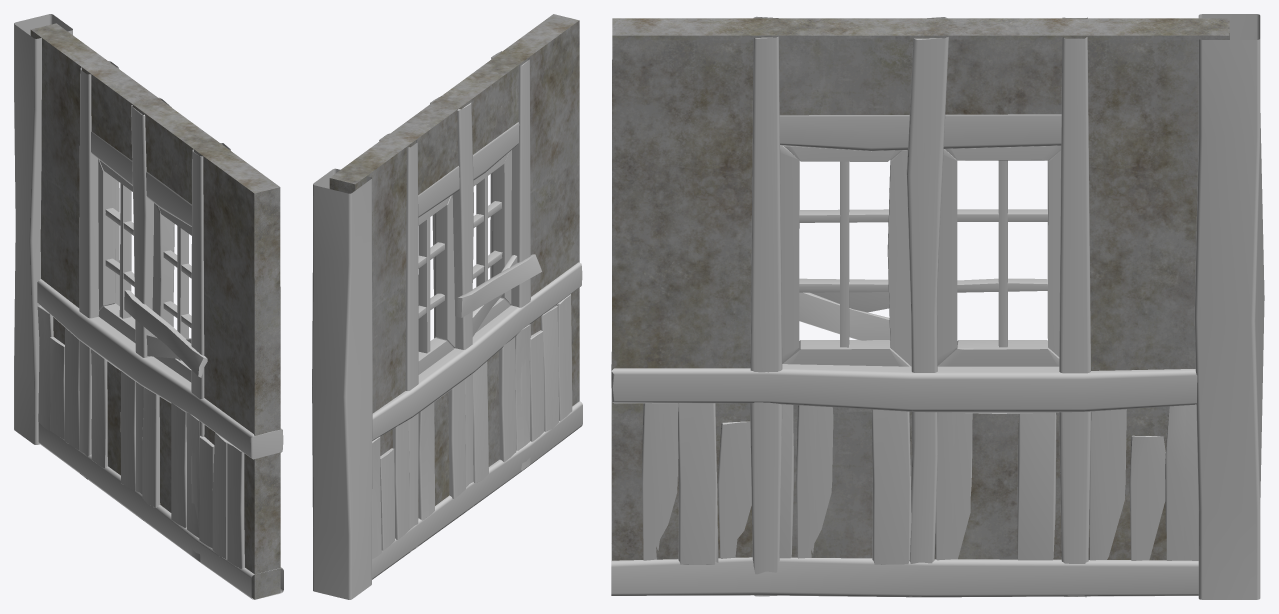
Rendered from SM_Wall48.fbx.
The picture shows the model from 3 angles, left to right: view 1: azimuth 30°, elevation 25°; view 2: azimuth 150°, elevation 25°; view 3: azimuth 270°, elevation 25°; orthographic projection. The views are drawn at different scales.
Parts seen in each view (by area): view 1: SM_Wall48_LOD0; view 2: SM_Wall48_LOD0; view 3: SM_Wall48_LOD0.
Boxes of the visible parts, left/top/right/bottom form: SM_Wall48_LOD0: left=14, top=14, right=283, bottom=599; SM_Wall48_LOD0: left=312, top=14, right=582, bottom=599; SM_Wall48_LOD0: left=611, top=14, right=1264, bottom=599.
Size of the model in its own units: 34.36 by 317 by 302.
